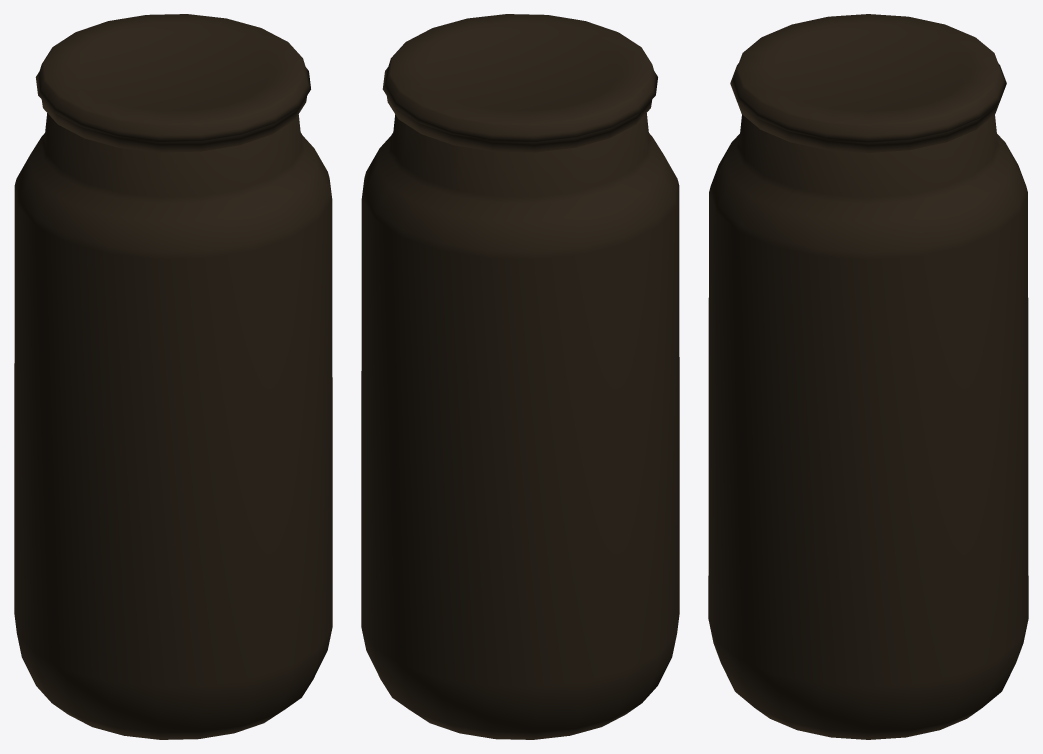
File: jar2.fbx
The picture shows the model from 3 angles, left to right: view 1: azimuth 30°, elevation 25°; view 2: azimuth 150°, elevation 25°; view 3: azimuth 270°, elevation 25°; orthographic projection.
Parts seen in each view (by area): view 1: jar2; view 2: jar2; view 3: jar2.
Part boxes in pixels (box(x1,y1,x2,y2)): jar2: box(14, 14, 332, 739); jar2: box(361, 14, 679, 739); jar2: box(708, 14, 1028, 739).
Size of the model in its own units: 0.065 by 0.1392 by 0.065.
